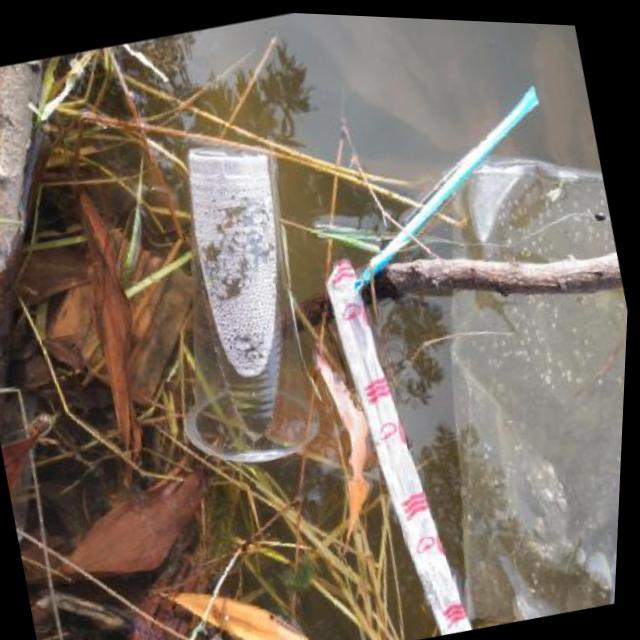plastic: (119, 126, 344, 481), (302, 242, 490, 640)
